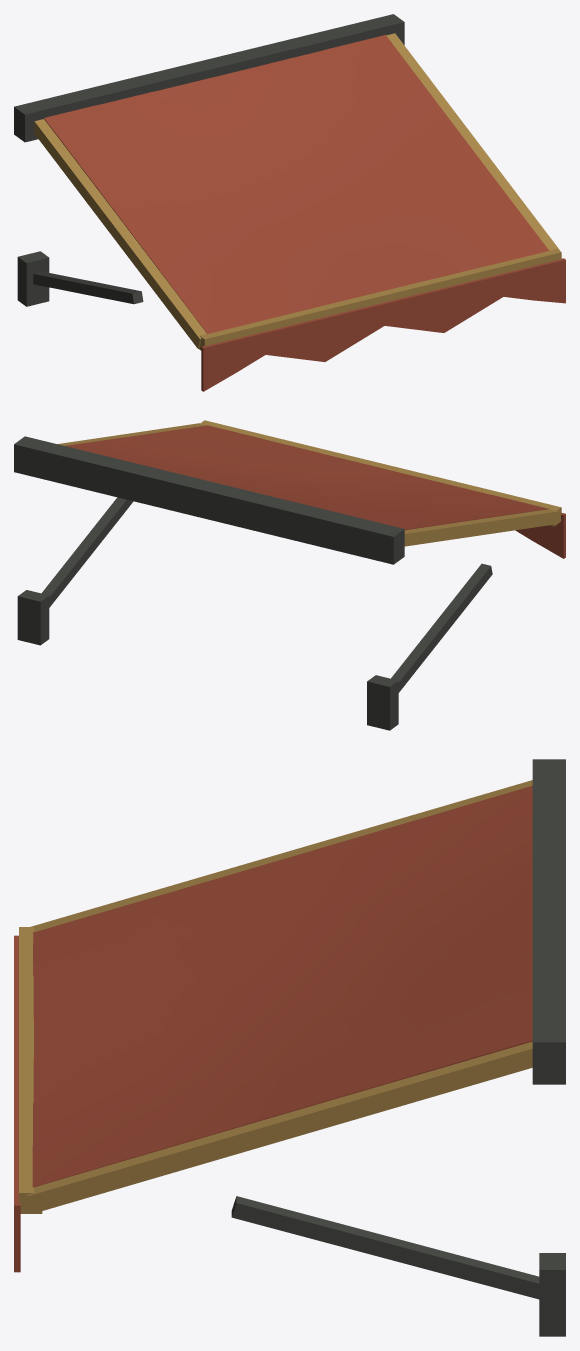
Rendered from awning_hard.glb.
3 views of the same model, one above another, from view 1: azimuth 30°, elevation 25°; view 2: azimuth 150°, elevation 25°; view 3: azimuth 270°, elevation 25° (orthographic). The views are drawn at different scales.
Parts seen in each view (by area): view 1: awning_hard; view 2: awning_hard; view 3: awning_hard.
Boxes of the visible parts, x1,y1,x2,y2 form: awning_hard: [14, 14, 565, 391]; awning_hard: [14, 420, 565, 730]; awning_hard: [14, 759, 565, 1336].
Size of the model in its own units: 2 by 0.98 by 1.65.
